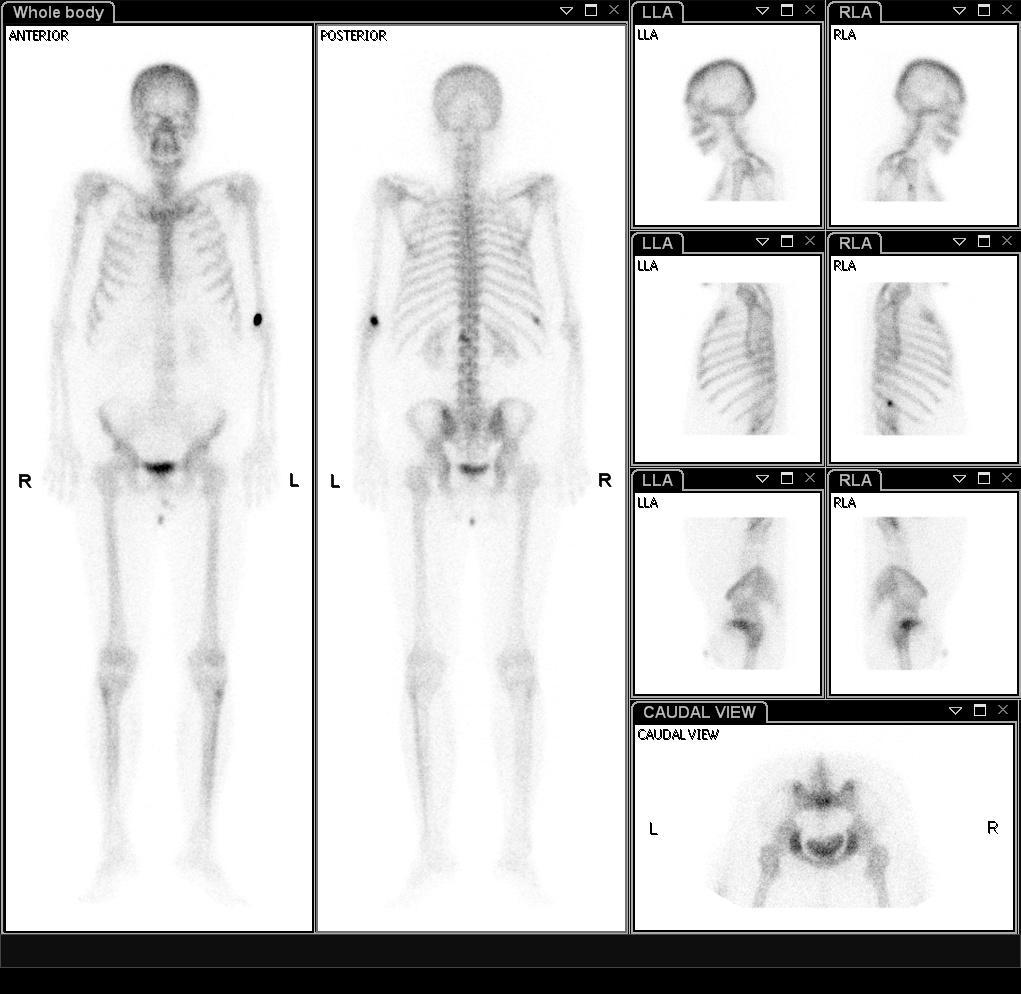person: (5, 25, 627, 932)
